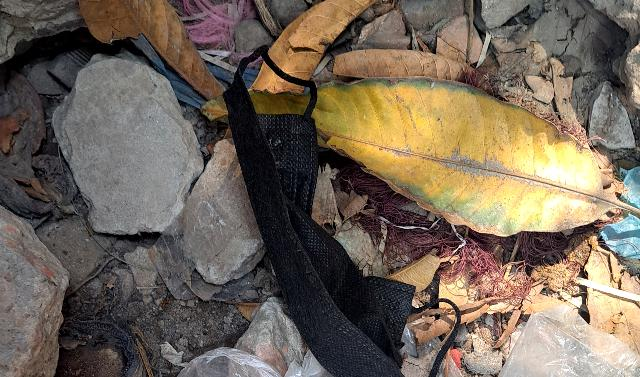mask: (193, 47, 452, 377)
